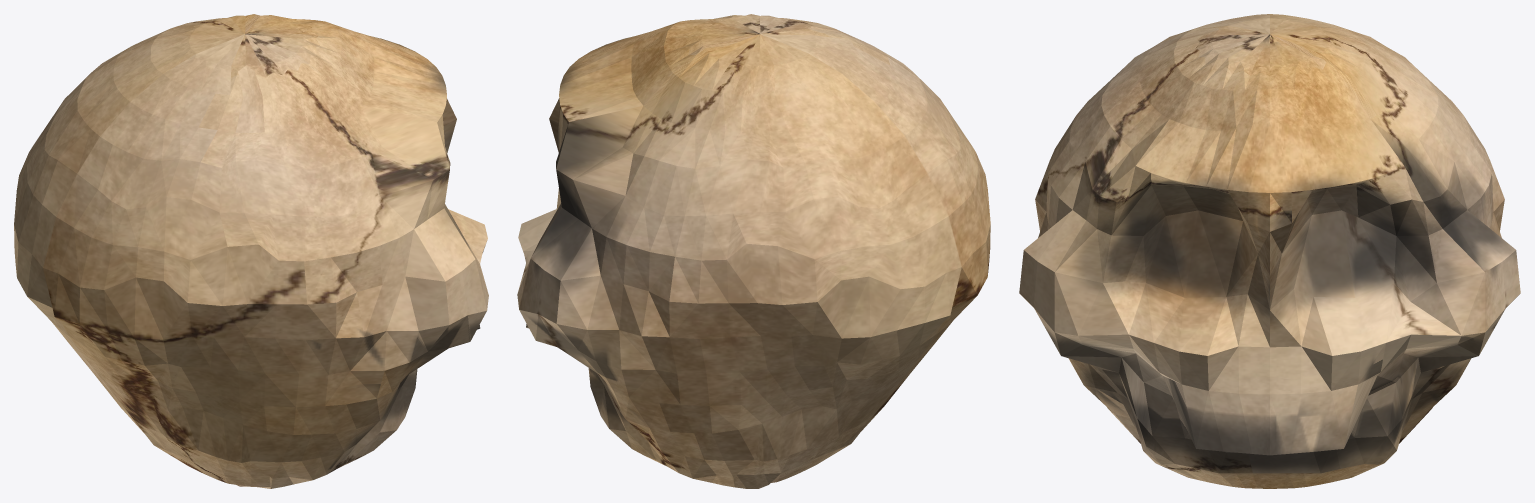
Rendered from skull.obj.
3 renders of one model, left to right at view 1: azimuth 30°, elevation 25°; view 2: azimuth 150°, elevation 25°; view 3: azimuth 270°, elevation 25°, orthographic.
Parts seen in each view (by area): view 1: Sphere; view 2: Sphere; view 3: Sphere.
Boxes of the visible parts, bbox=[...] form: Sphere: bbox=[14, 14, 488, 488]; Sphere: bbox=[517, 14, 990, 488]; Sphere: bbox=[1019, 14, 1520, 488].
Size of the model in its own units: 1.91 by 1.91 by 1.99.
1 material, 1 textured.
